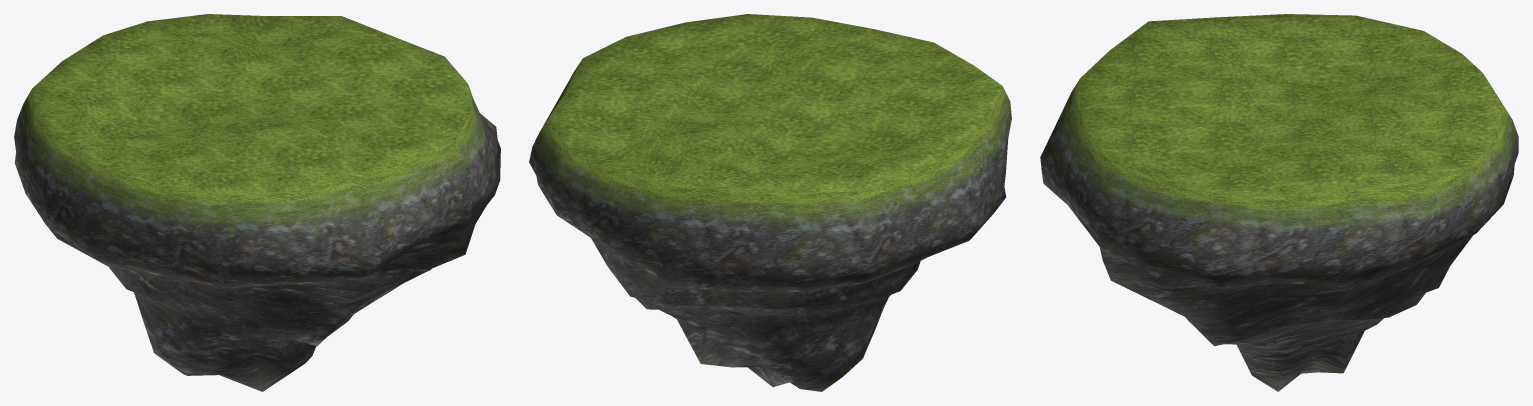
File: floating_island.glb
3 views of the same model, side by side, from view 1: azimuth 30°, elevation 25°; view 2: azimuth 150°, elevation 25°; view 3: azimuth 270°, elevation 25° (orthographic).
Visible parts, largest first — view 1: g; view 2: g; view 3: g.
Boxes of the visible parts, x1,y1,x2,y2 form: g: (14, 14, 500, 391); g: (529, 14, 1011, 391); g: (1040, 14, 1518, 391).
Bounding box in the file's own units: 2 × 1.35 × 2.
2 materials, 2 textured.
